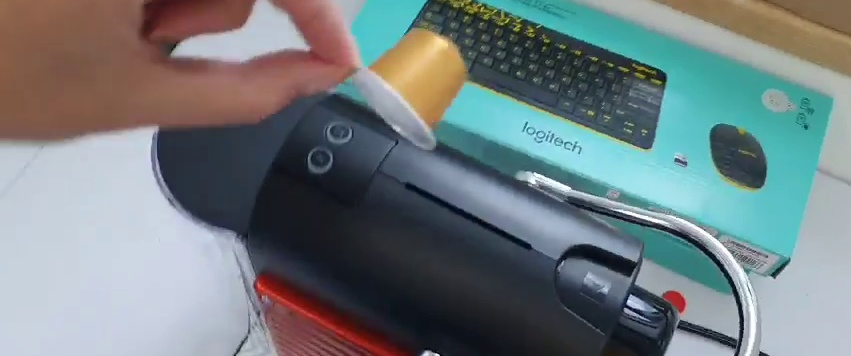capsule_8: (357, 25, 471, 150)
